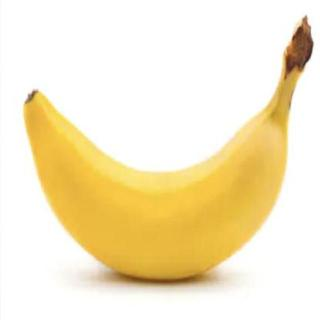banana: (22, 83, 290, 284)
